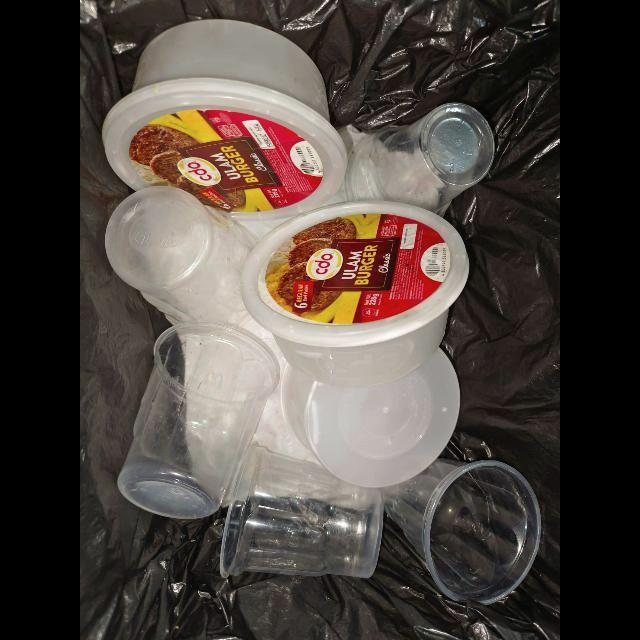plastic_container: (101, 19, 348, 222), (241, 201, 469, 389), (117, 322, 280, 521), (280, 347, 461, 490), (380, 460, 542, 606), (219, 446, 384, 580), (104, 186, 260, 326), (344, 102, 495, 217)
